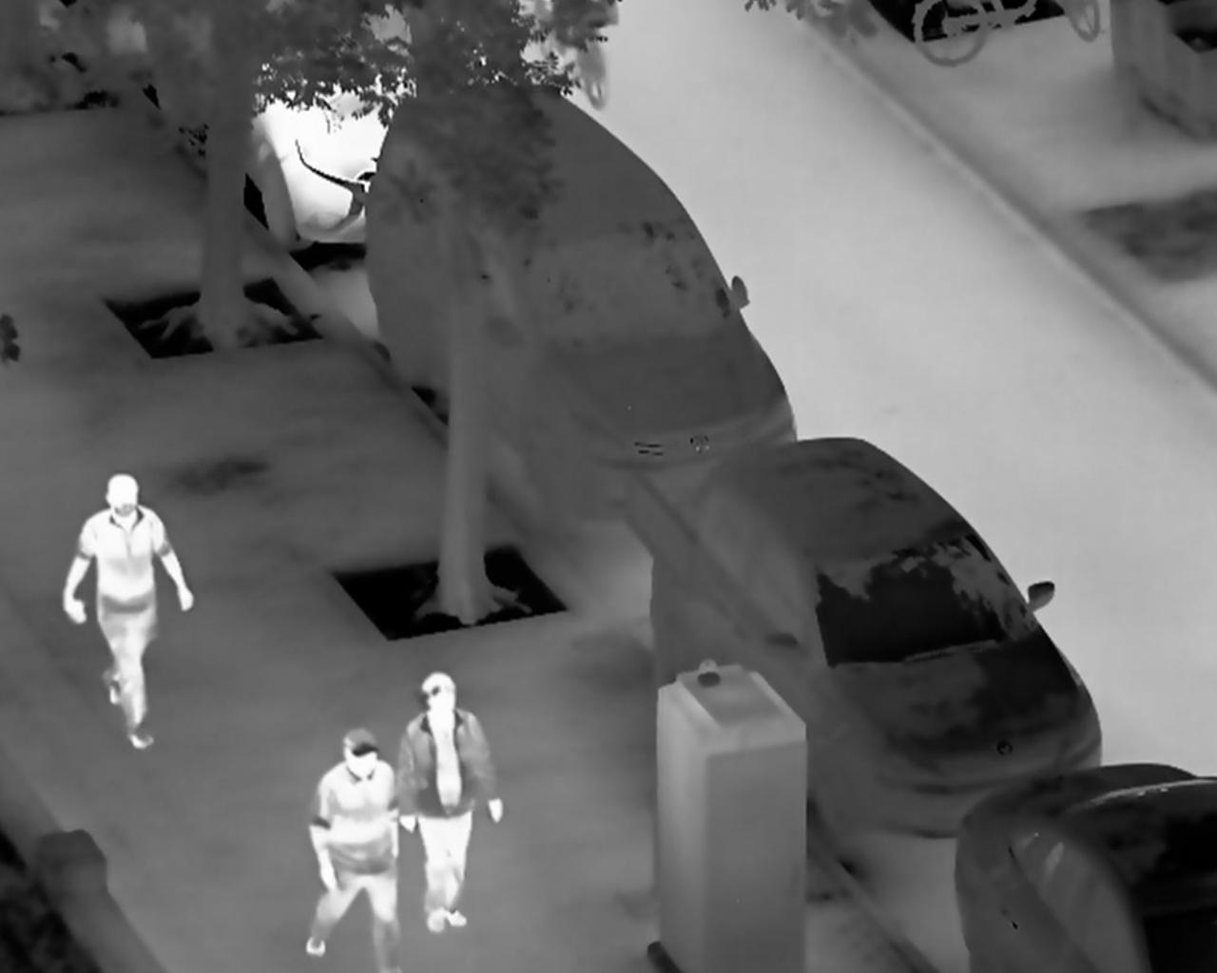person: (62, 470, 197, 753), (396, 671, 505, 935), (304, 727, 400, 973)
